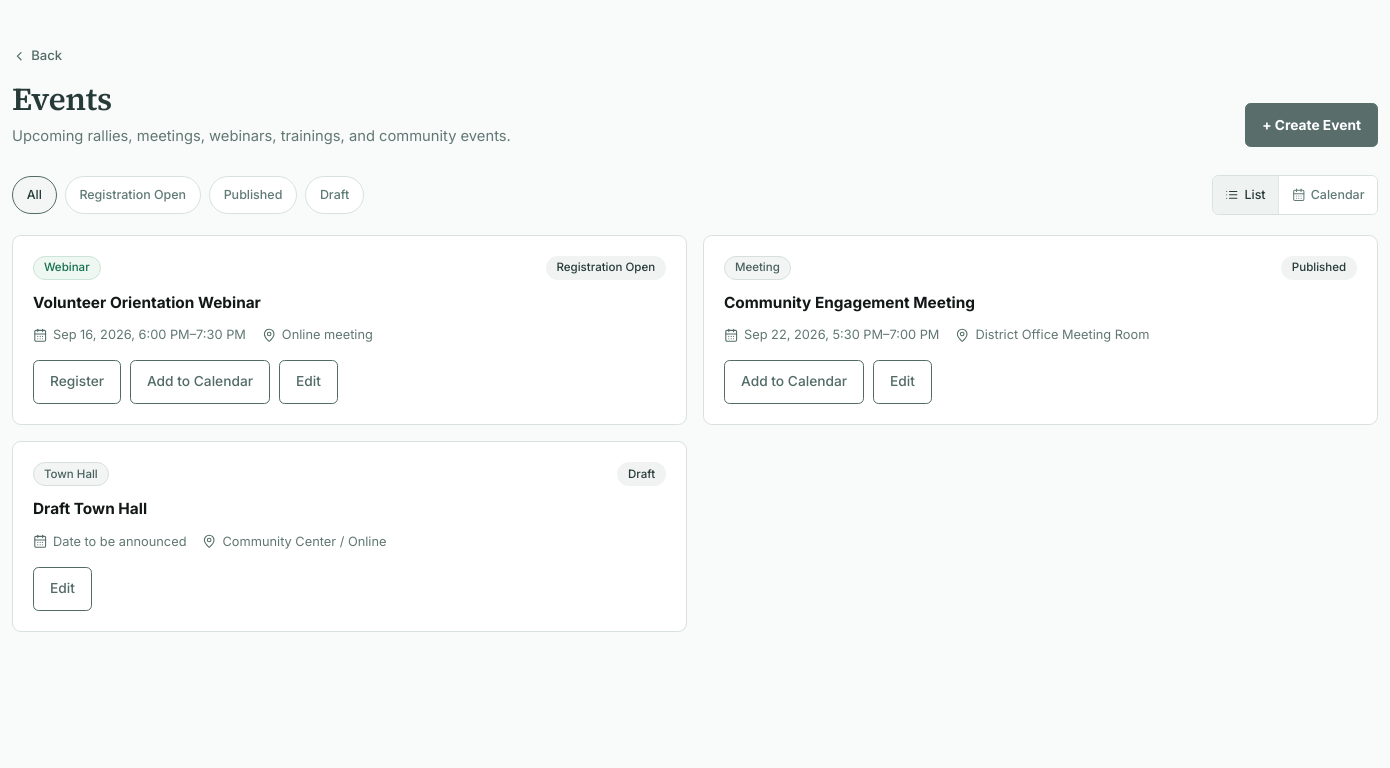
Test: Events › omits unscheduled administrator records from Calendar view without crashing
The image size is (1390, 768).
Expected: the heading "Draft Town Hall" is shown, [33, 499, 147, 520]
Click the button "Calendar": {"x": 1328, "y": 195} [1278, 176, 1377, 214]
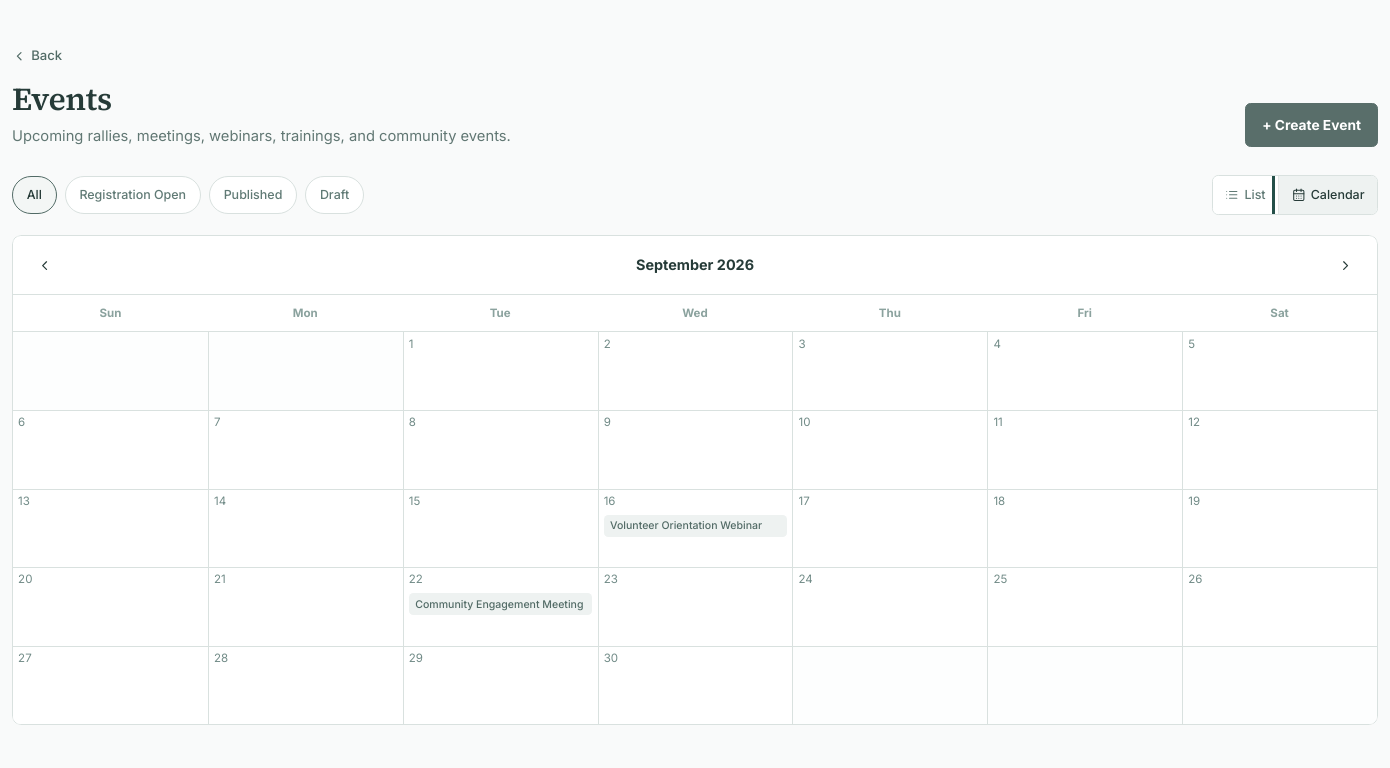
Expected: the button "Volunteer Orientation Webinar" is shown, [604, 515, 787, 537]
Result: the button "Draft Town Hall" is gone
